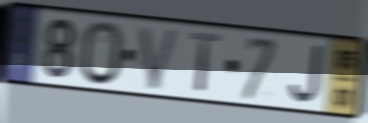7: (242, 35, 279, 102)
8: (41, 16, 77, 82)
J: (287, 44, 326, 106)
O: (80, 19, 125, 88)
T: (189, 30, 223, 97)
V: (137, 24, 183, 93)
